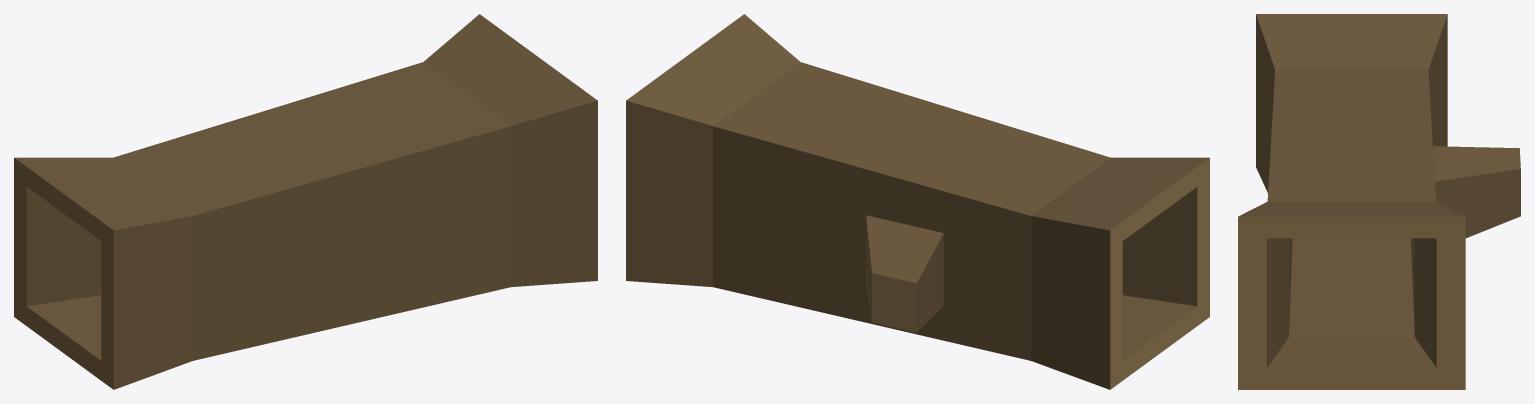
Rendered from Fallen_Trunk_01.obj.
The picture shows the model from 3 angles, left to right: view 1: azimuth 30°, elevation 25°; view 2: azimuth 150°, elevation 25°; view 3: azimuth 270°, elevation 25°; orthographic projection. The views are drawn at different scales.
Parts seen in each view (by area): view 1: Mesh1_Fallen_Trunk_Model; view 2: Mesh1_Fallen_Trunk_Model; view 3: Mesh1_Fallen_Trunk_Model.
Boxes of the visible parts, x1,y1,x2,y2 form: Mesh1_Fallen_Trunk_Model: (14,14,597,389); Mesh1_Fallen_Trunk_Model: (626,14,1209,389); Mesh1_Fallen_Trunk_Model: (1238,14,1520,389).
Size of the model in its own units: 2.19 by 0.7952 by 1.18.
